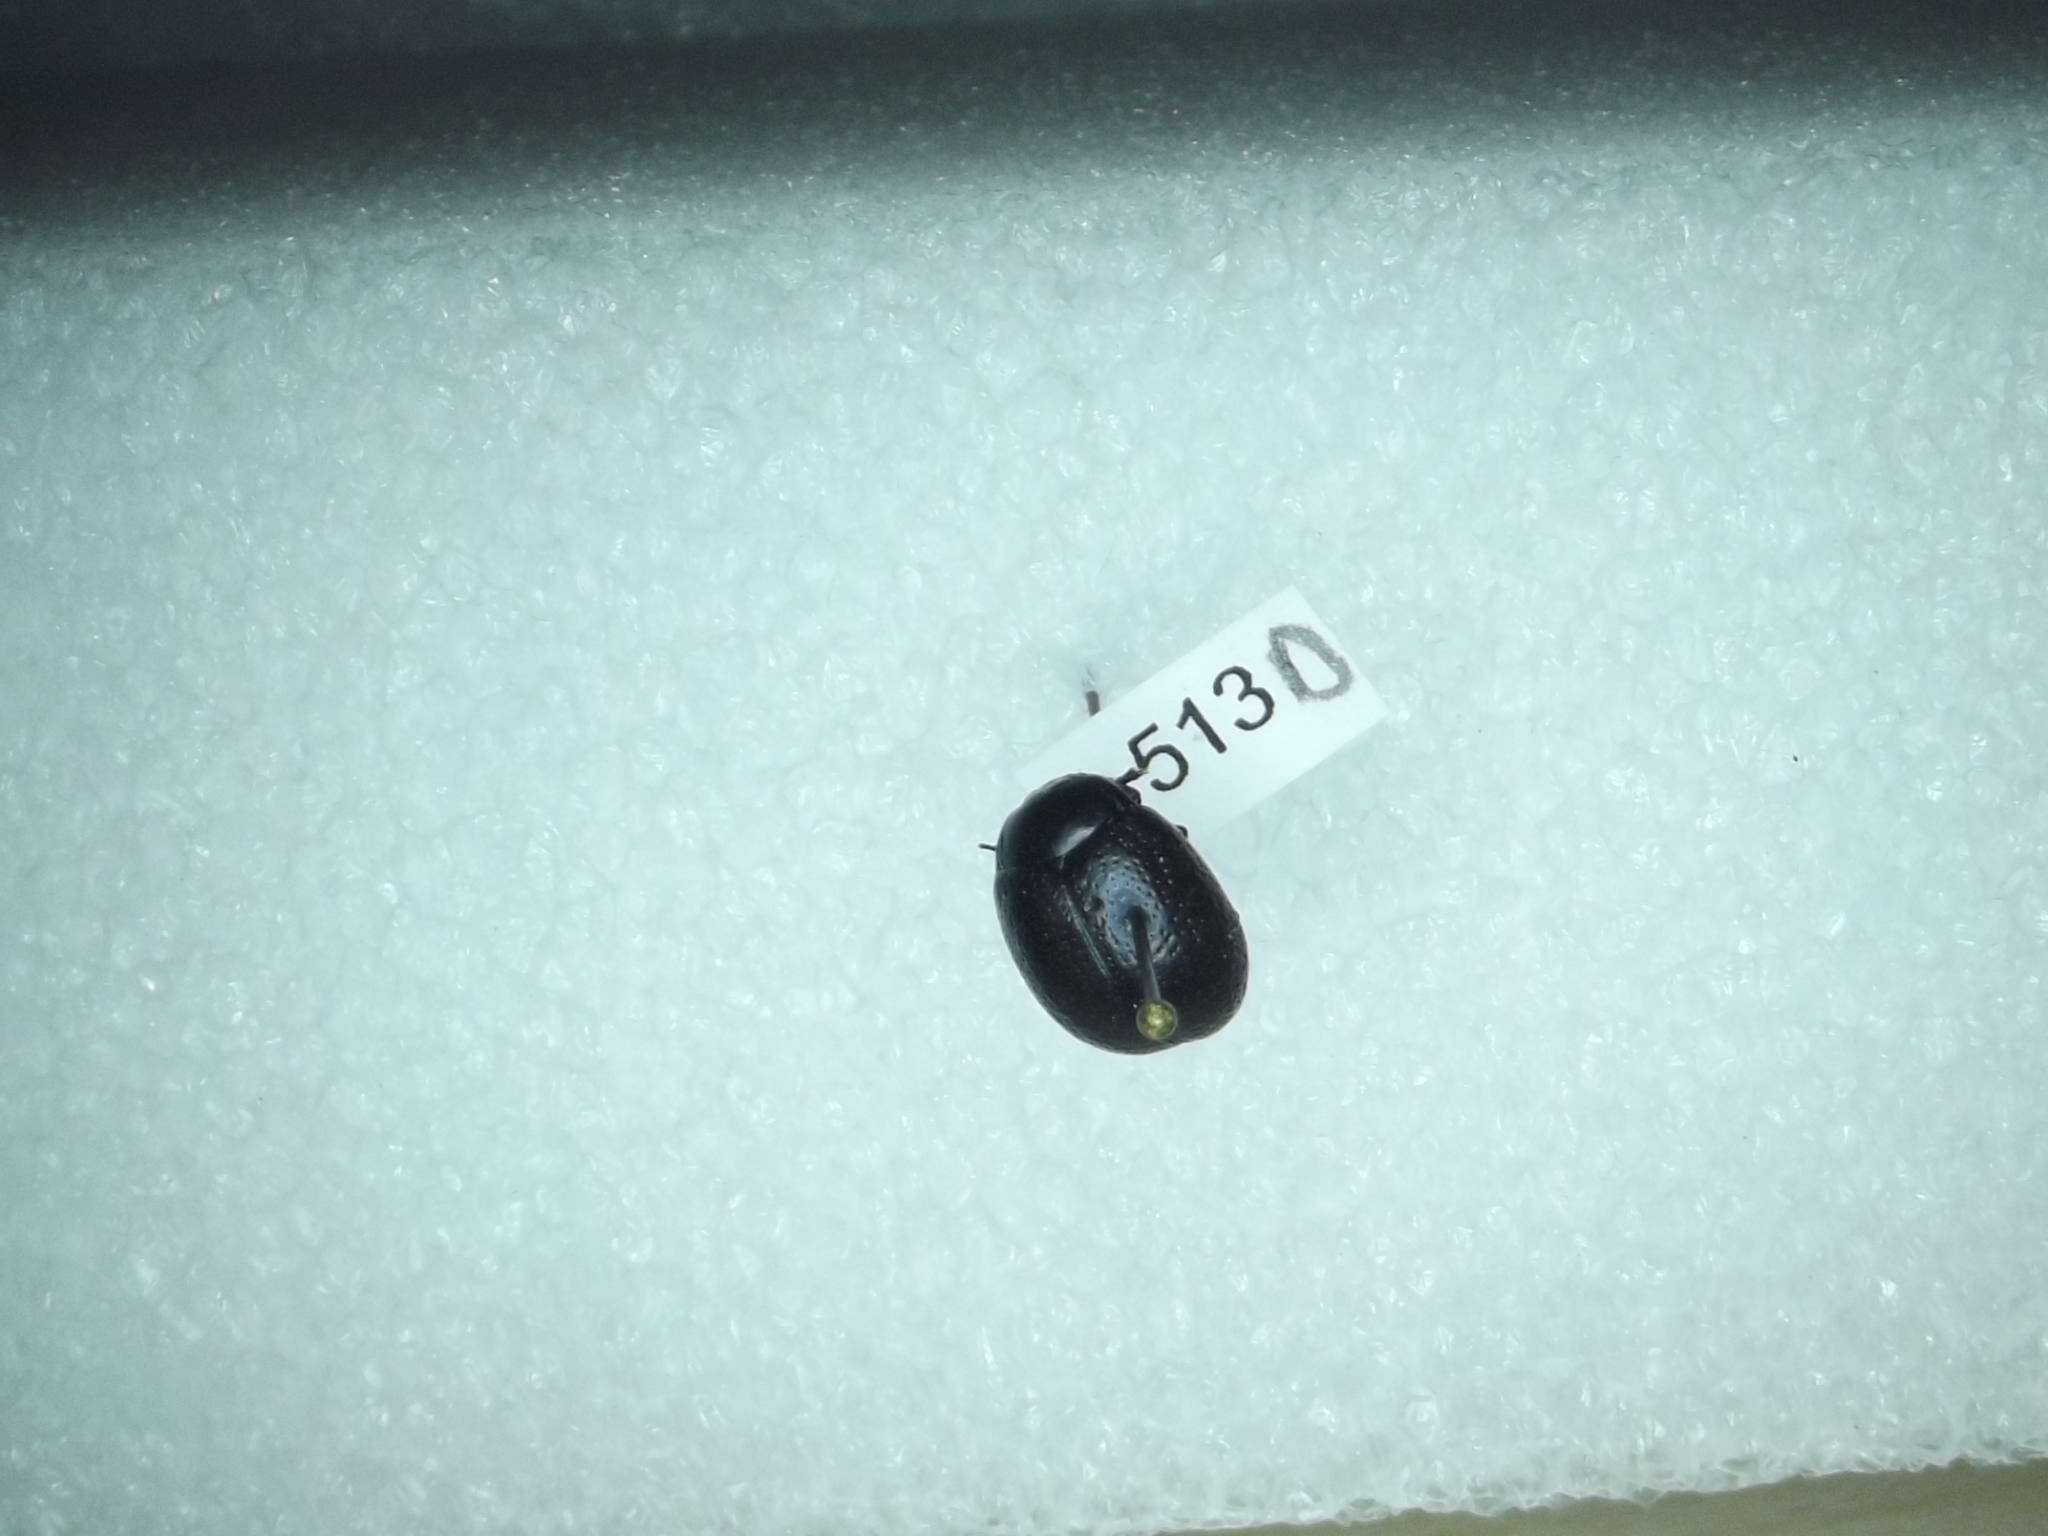Chrysolina_oricalcia: (969, 762, 1264, 1063)
